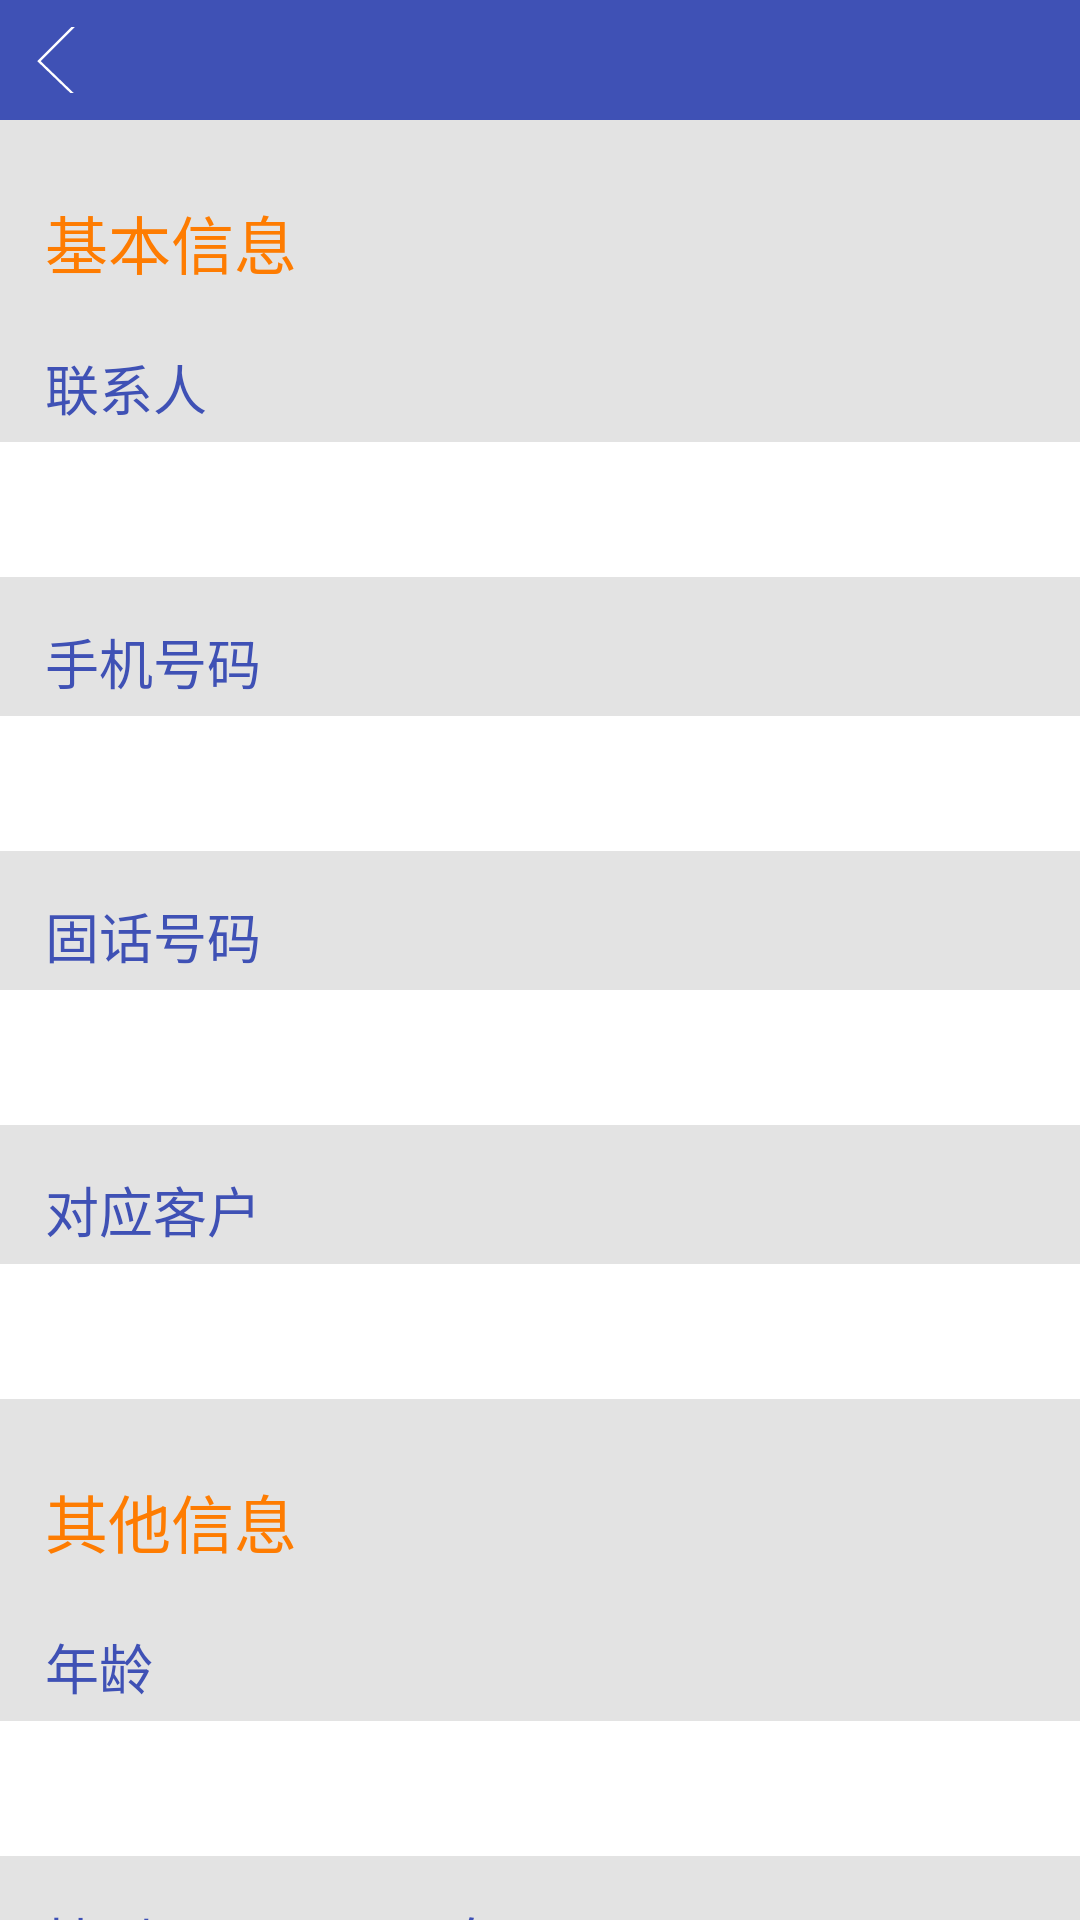

Where to tap for icons on this 1080px×1920px app screen, as (x=x, y=y):
back: (x=56, y=60)
